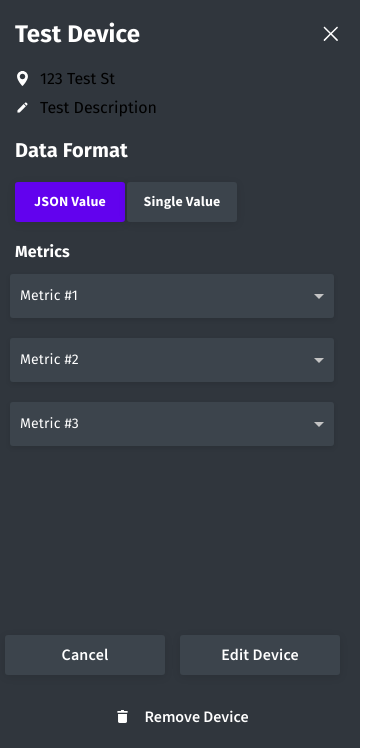
it: EditDevicePanel › toggles edit mode when the Edit/Save button is clicked
What coordinates should you click on to do the following:
click the button "Edit Device"
I would click on:
 (260, 655)
Its box is [180,635,340,675].
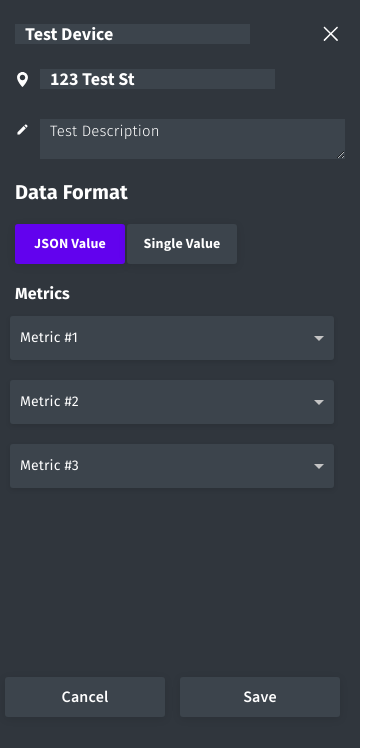
Result: the button "Save" is shown
What coordinates should you click on to do the following:
click the button "Save"
I would click on:
 (260, 697)
Its box is [180,677,340,717].
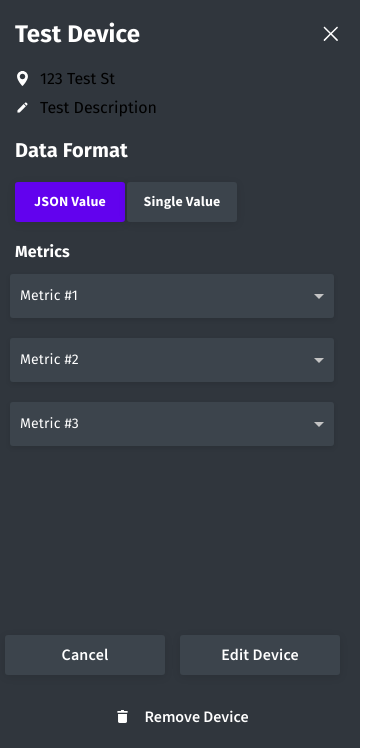
Result: the button "Edit Device" is shown at [180,635,340,675]
